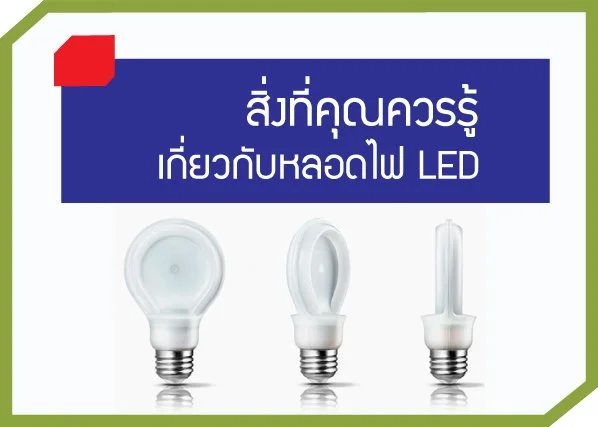Light_bulb: (117, 212, 236, 394), (286, 215, 356, 388), (416, 217, 481, 382)
